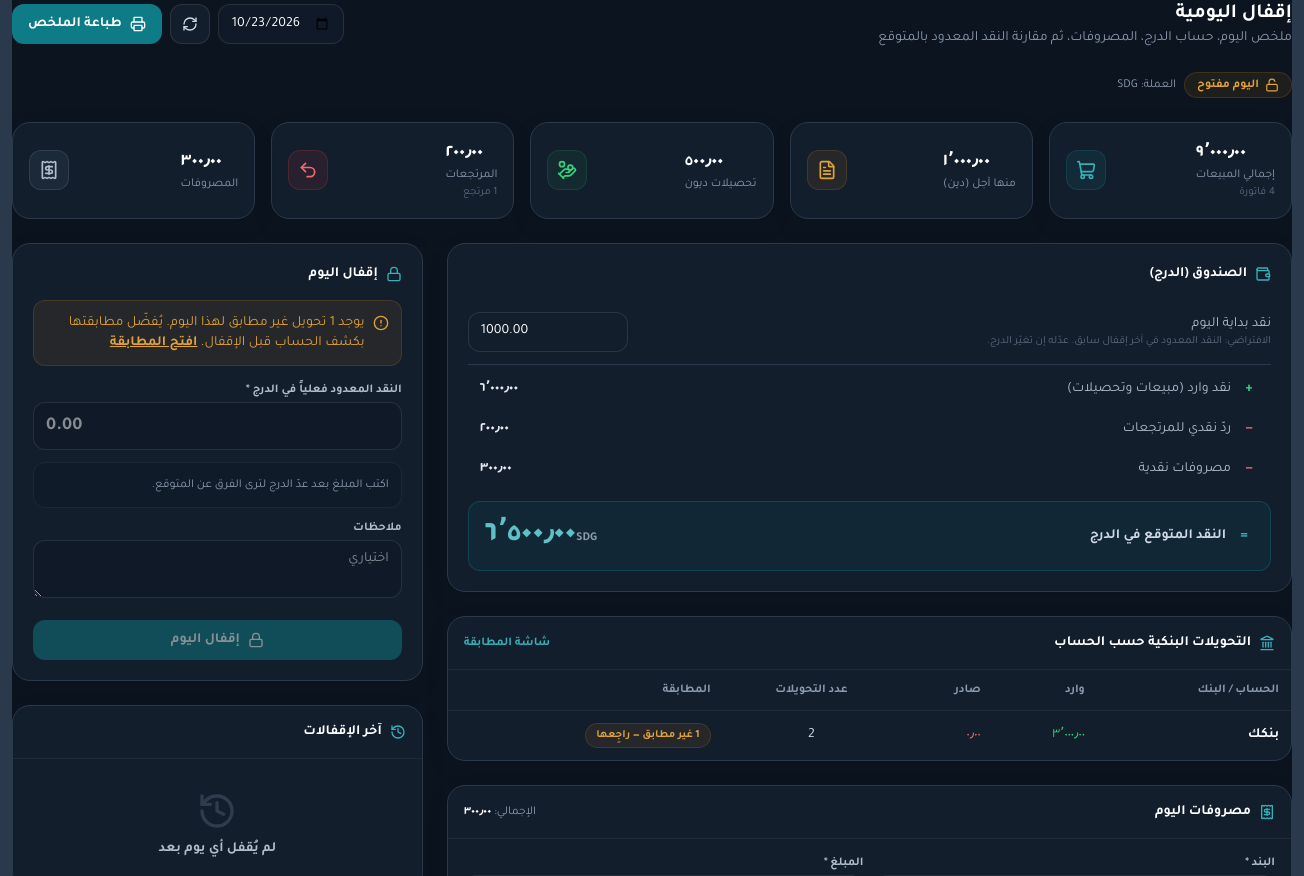
Scenario: صفحة إقفال اليومية › تعرض الملخص والنقد المتوقع وتعيد الحساب عند تعديل نقد البداية
Expected: the text "٦٬٥٠٠٫٠٠SDG" is shown, [485,518,601,554]
Replace the text in the field labelled "نقد بداية اليوم" with "2000" at (548, 332), box [468,312,628,352]
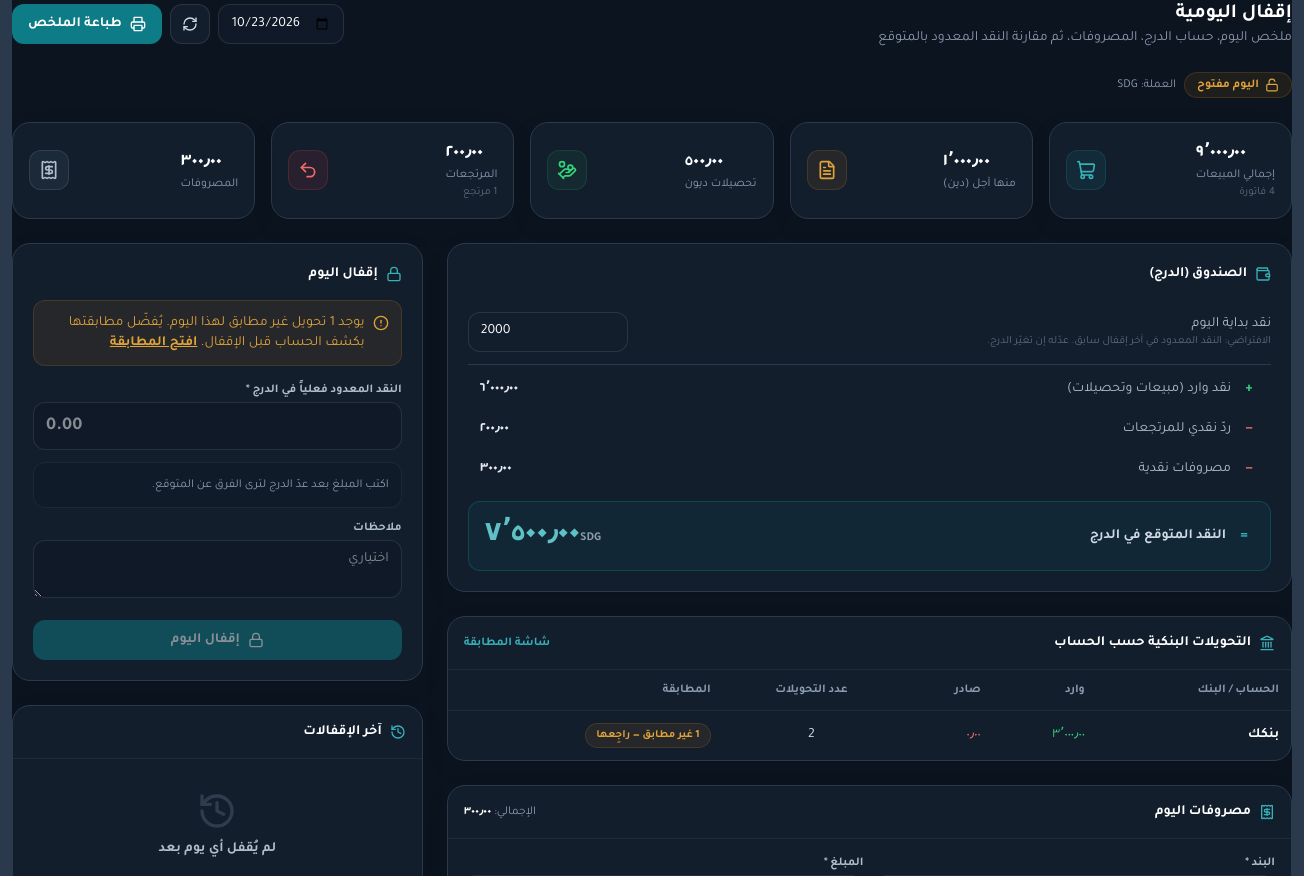
Now the text "٧٬٥٠٠٫٠٠SDG" is shown, box [485,518,605,554]
